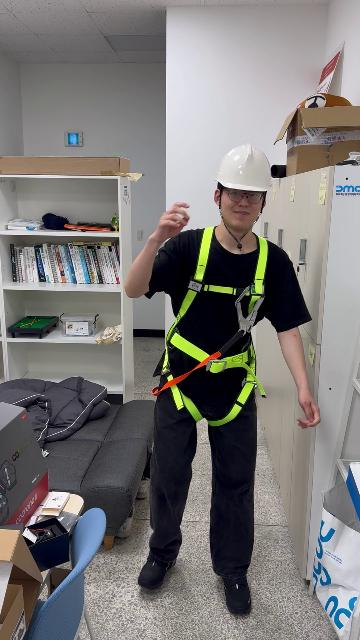helmet_worn: (213, 144, 274, 194)
shoe_not_worn: (136, 475, 150, 499)
shoe_worn: (138, 553, 178, 589), (222, 575, 251, 615)
vest_worn: (157, 230, 269, 414)
